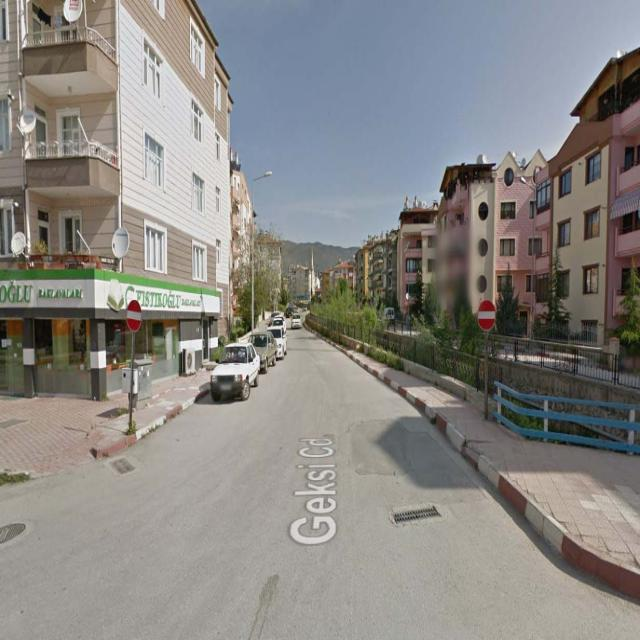girisyok: (478, 301, 496, 330), (127, 301, 142, 331)
